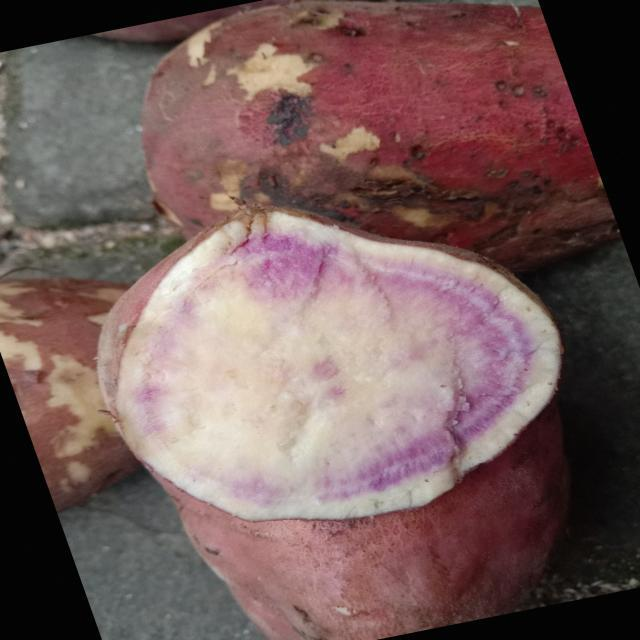Healthy Sweet Potato: (98, 206, 560, 521)
